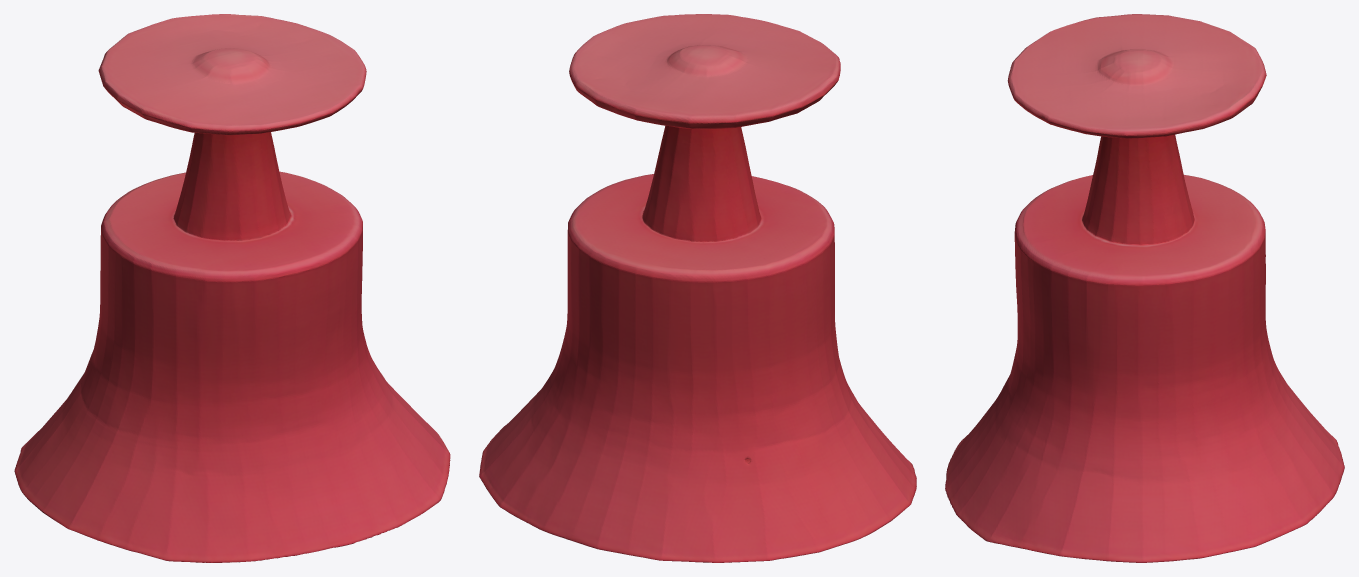
3 views of the same model, side by side, from view 1: azimuth 30°, elevation 25°; view 2: azimuth 150°, elevation 25°; view 3: azimuth 270°, elevation 25° (orthographic). The views are drawn at different scales.
Parts seen in each view (by area): view 1: world; view 2: world; view 3: world.
Part boxes in pixels (left/top/right/bottom): world: left=14, top=14, right=450, bottom=562; world: left=479, top=14, right=916, bottom=562; world: left=945, top=14, right=1344, bottom=562.
Size of the model in its own units: 0.9398 by 0.9996 by 0.8627.
